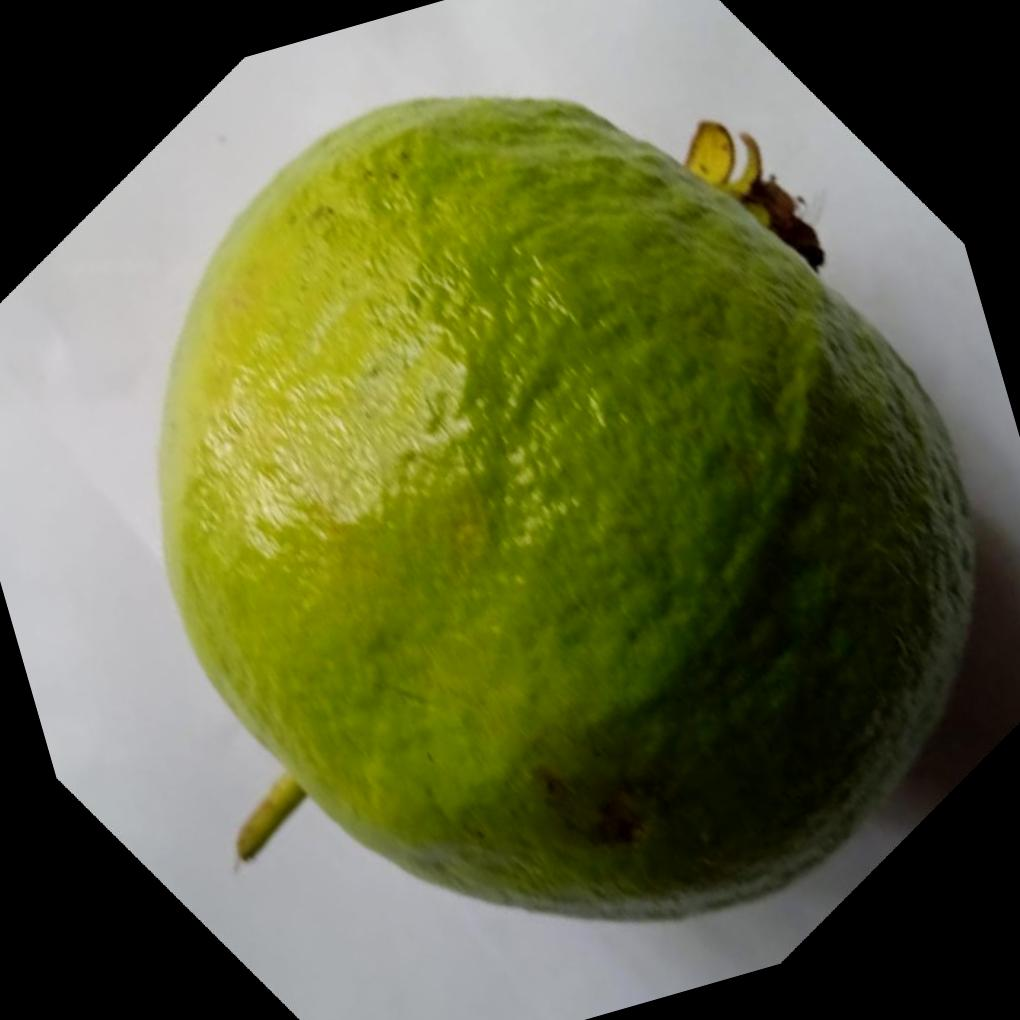FreshGuava: (156, 93, 983, 922)
